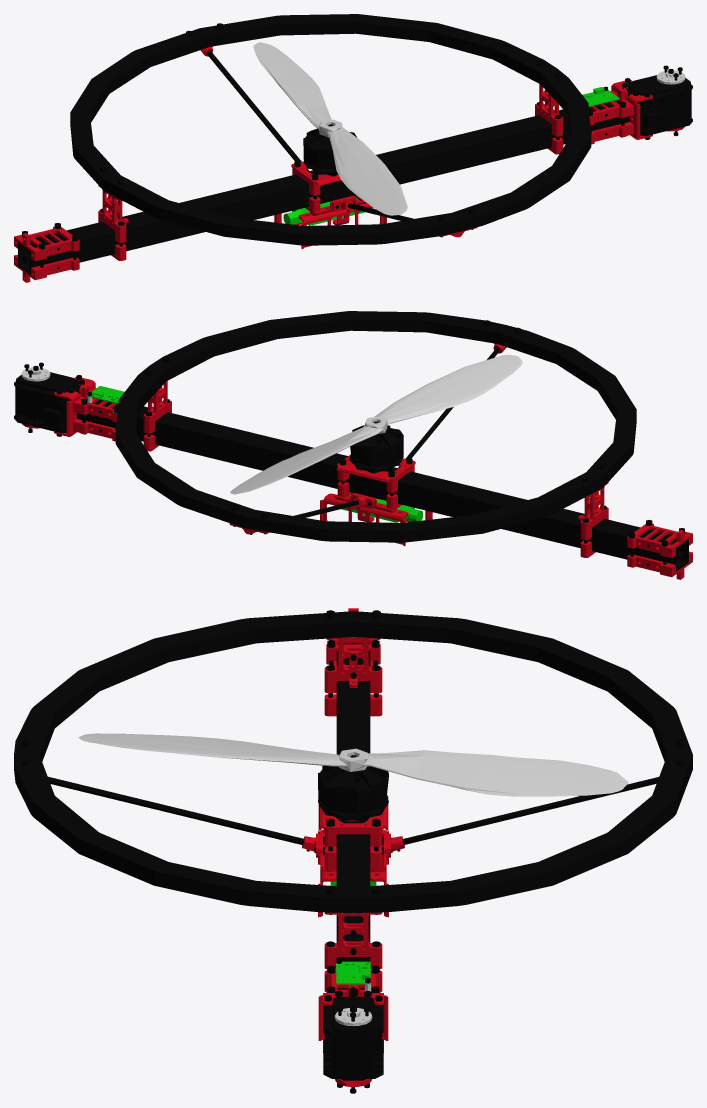
File: head_link.dae
The picture shows the model from 3 angles, top to bottom: view 1: azimuth 30°, elevation 25°; view 2: azimuth 150°, elevation 25°; view 3: azimuth 270°, elevation 25°; orthographic projection. The views are drawn at different scales.
Visible parts, largest first — view 1: Head_Link_Black_Part, Head_Link_Red_Part, Head_Link_Grey_Part, Head_Link_Green_Part; view 2: Head_Link_Black_Part, Head_Link_Red_Part, Head_Link_Grey_Part, Head_Link_Green_Part; view 3: Head_Link_Black_Part, Head_Link_Grey_Part, Head_Link_Red_Part, Head_Link_Green_Part.
Boxes of the visible parts, x1,y1,x2,y2 form: Head_Link_Black_Part: (18,14,692,274); Head_Link_Red_Part: (14,46,684,282); Head_Link_Grey_Part: (253,42,685,215); Head_Link_Green_Part: (283,87,619,225); Head_Link_Black_Part: (14,311,688,571); Head_Link_Red_Part: (22,343,692,579); Head_Link_Grey_Part: (21,354,522,494); Head_Link_Green_Part: (87,386,422,522); Head_Link_Black_Part: (14,610,692,1093); Head_Link_Grey_Part: (78,733,628,1026); Head_Link_Red_Part: (302,608,404,1086); Head_Link_Green_Part: (330,880,376,984).
Size of the model in its own units: 0.582 by 0.4 by 0.0912.
